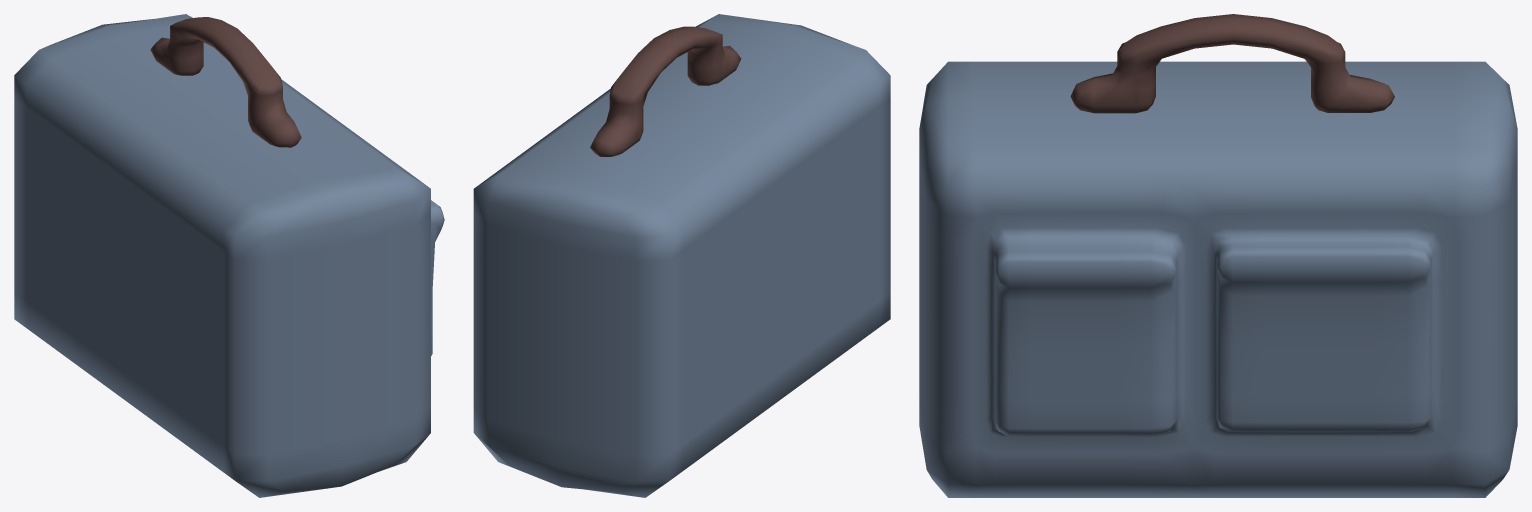
File: bag.fbx
The picture shows the model from 3 angles, left to right: view 1: azimuth 30°, elevation 25°; view 2: azimuth 150°, elevation 25°; view 3: azimuth 270°, elevation 25°; orthographic projection. The views are drawn at different scales.
Visible parts, largest first — view 1: pCube19; view 2: pCube19; view 3: pCube19.
Part boxes in pixels (left/top/right/bottom): pCube19: left=14, top=14, right=444, bottom=497; pCube19: left=473, top=14, right=890, bottom=497; pCube19: left=919, top=14, right=1517, bottom=497.
Bounding box in the file's own units: 3 × 4.59 × 5.51.
